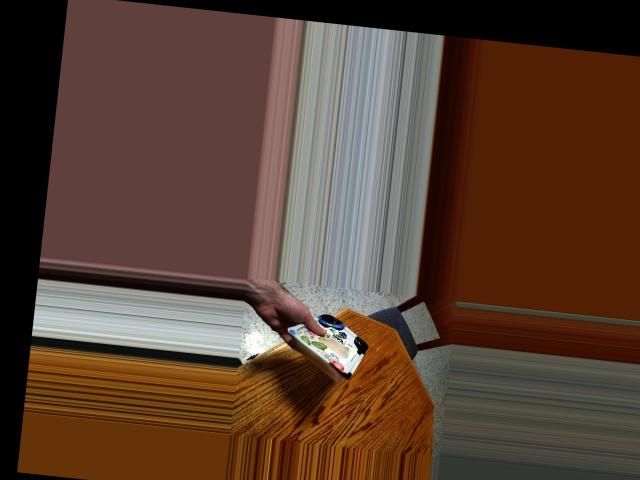cheese: (287, 309, 376, 398)
